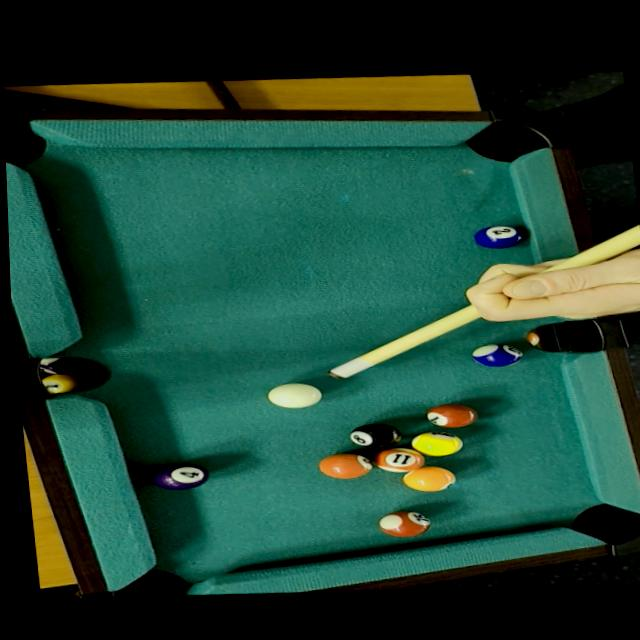cue ball: (262, 377, 326, 412)
other: (461, 216, 536, 254), (148, 456, 217, 494), (460, 338, 530, 374), (361, 436, 425, 475), (400, 457, 464, 496), (371, 504, 435, 543), (344, 415, 411, 452), (313, 448, 374, 483), (421, 398, 480, 434), (403, 426, 466, 459)
